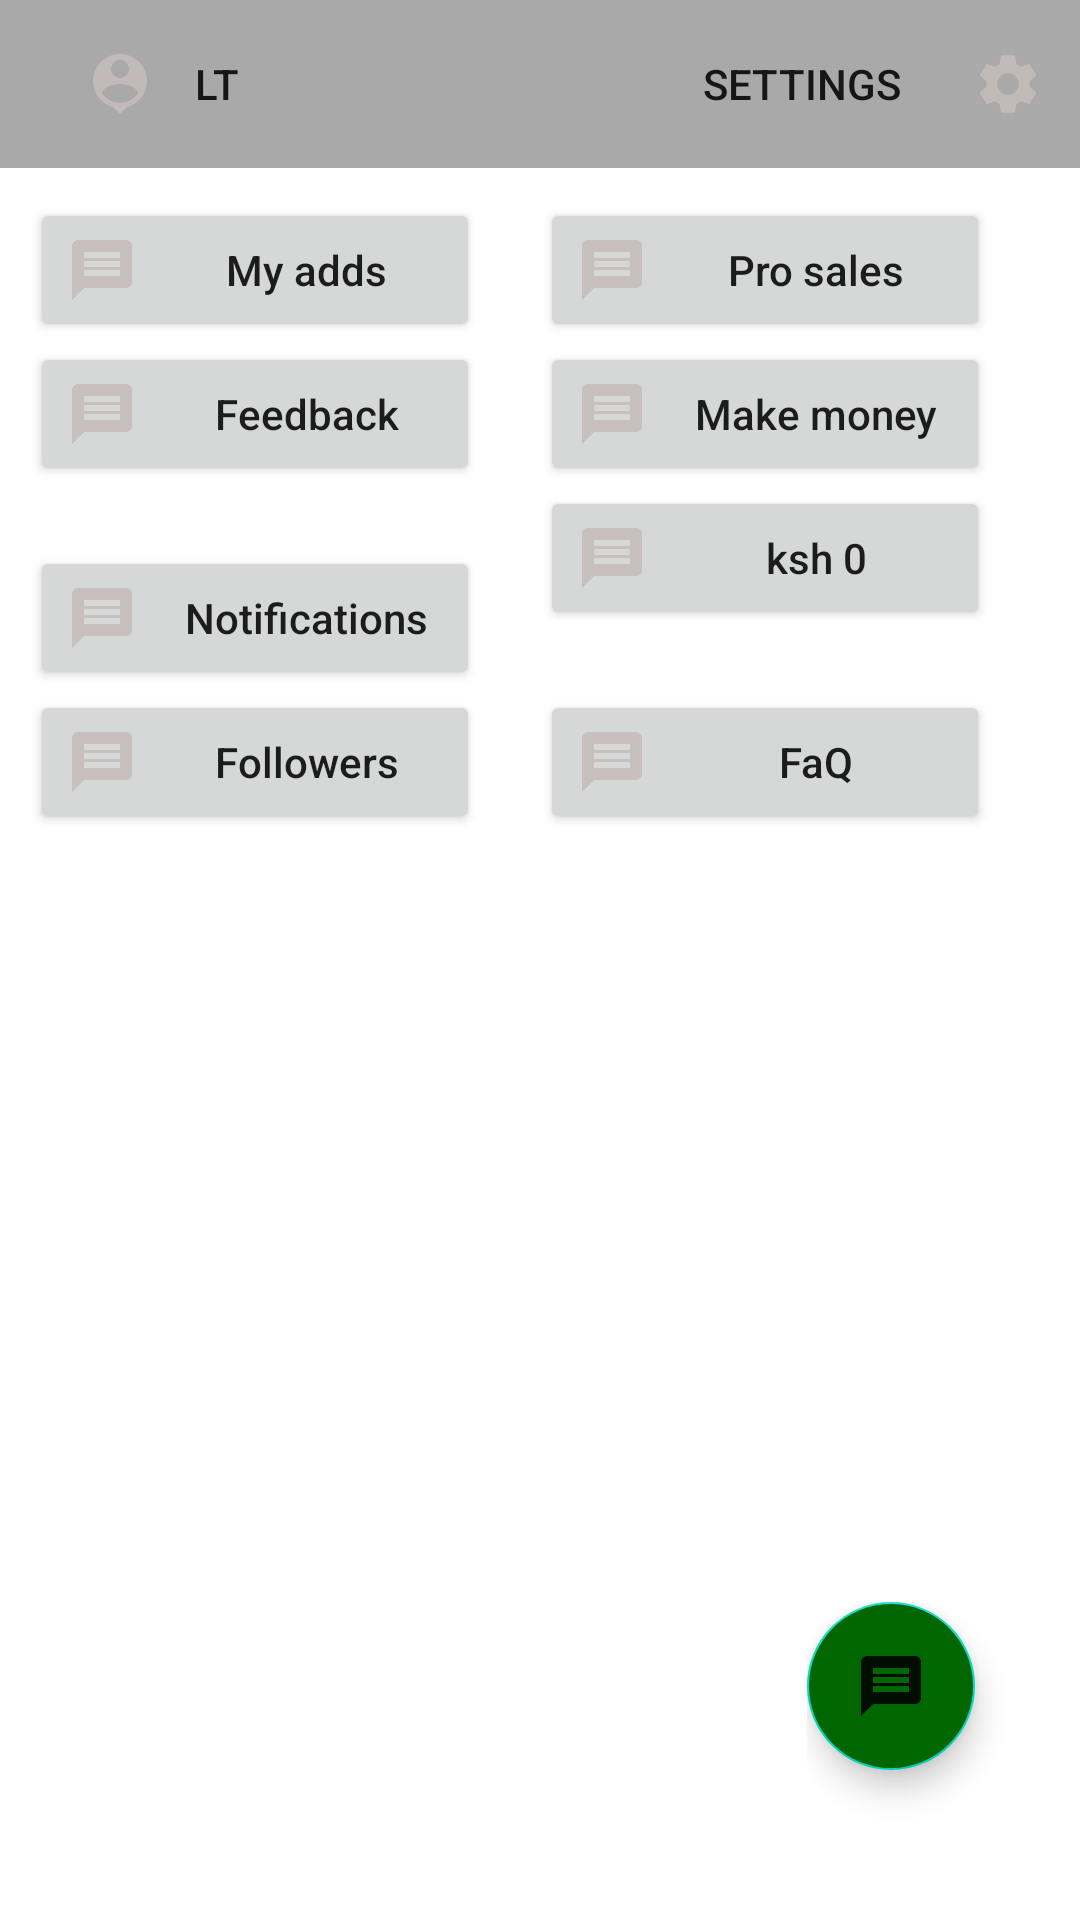

Screen size 1080*1920. Icon name, then its center in pixels as point (x, y):
messages: point (891, 1686)
